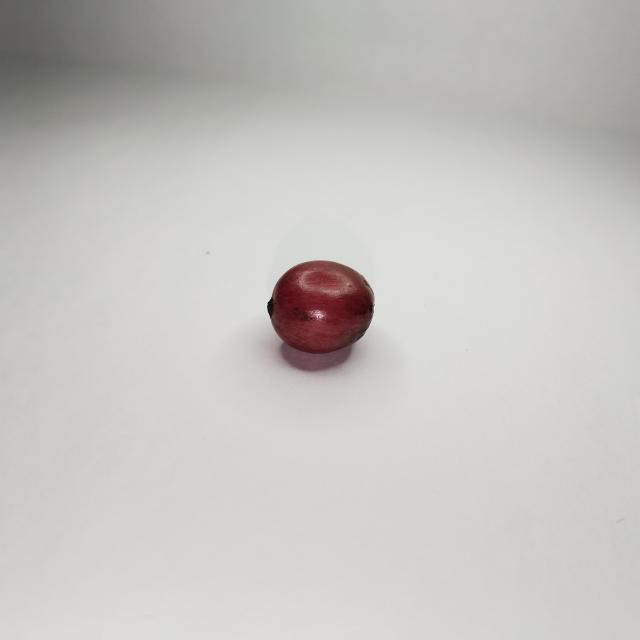Sano: (267, 260, 374, 354)
